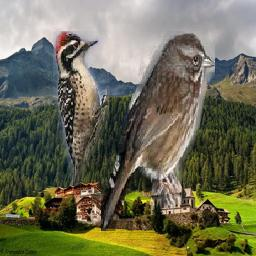Sparrow: (101, 31, 215, 231)
Woodpecker: (53, 31, 109, 185)
